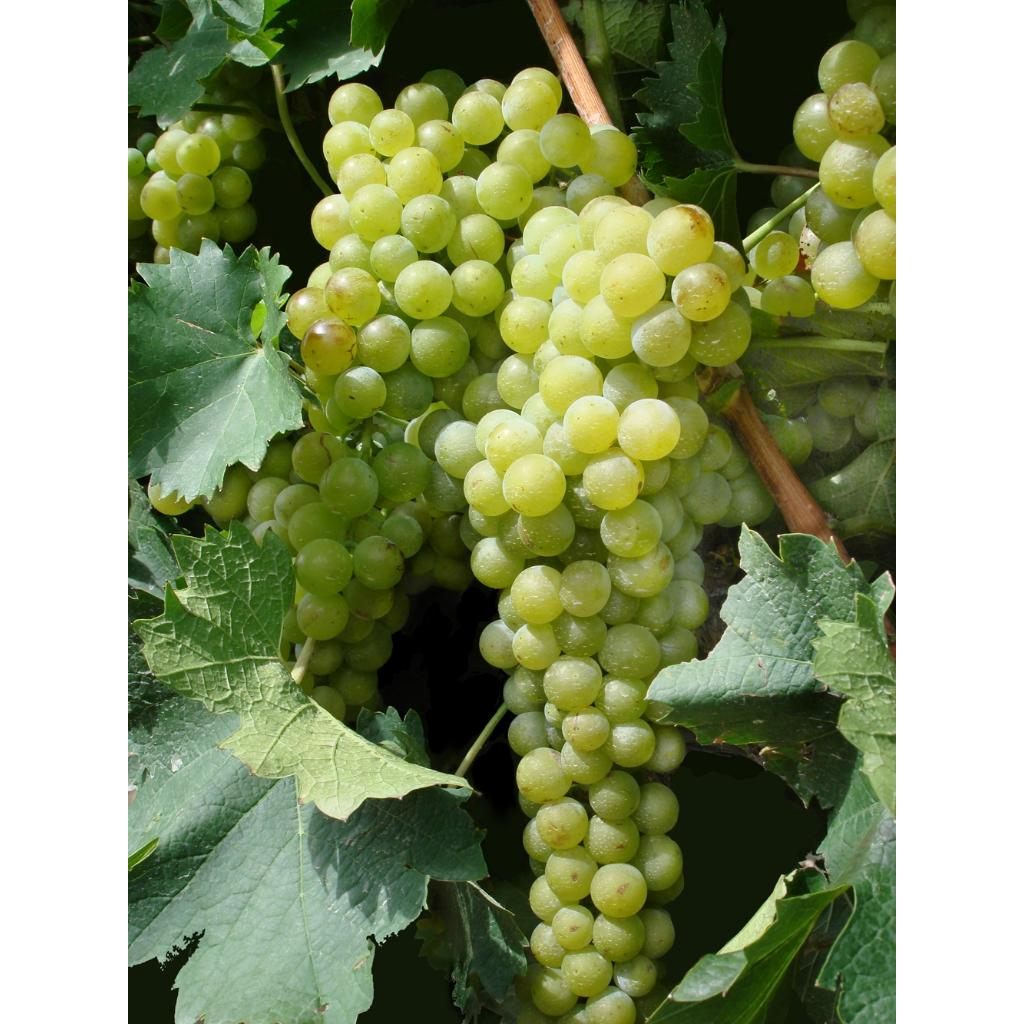grape: (216, 72, 762, 1023), (288, 108, 470, 458), (128, 112, 263, 251)
